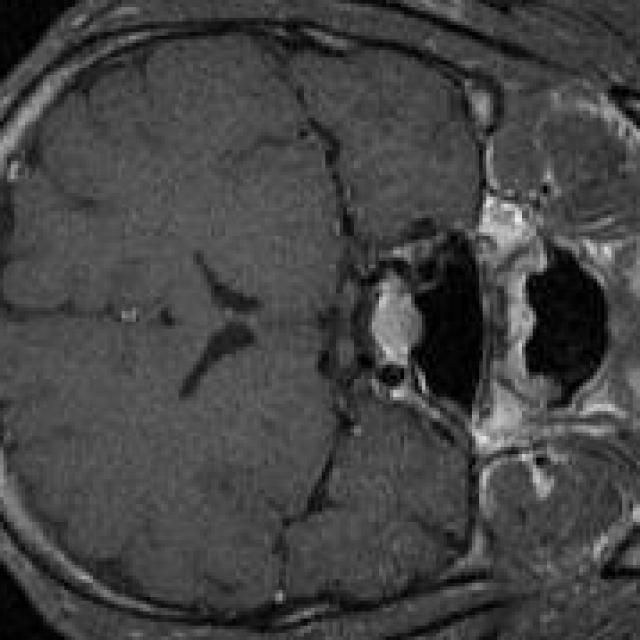pituitary: (368, 272, 429, 372)
